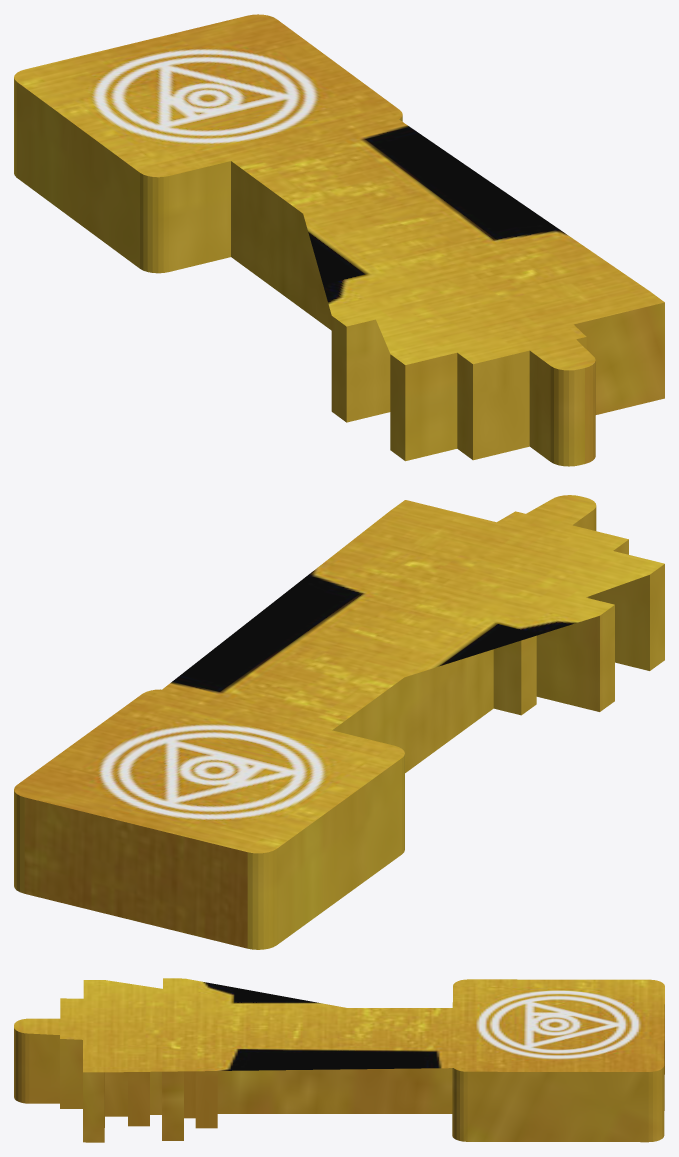
The model's file is Key4.fbx.
3 renders of one model, top to bottom at view 1: azimuth 30°, elevation 25°; view 2: azimuth 150°, elevation 25°; view 3: azimuth 270°, elevation 25°, orthographic. The views are drawn at different scales.
Parts seen in each view (by area): view 1: Key4; view 2: Key4; view 3: Key4.
Boxes of the visible parts, x1,y1,x2,y2 form: Key4: [14, 14, 664, 466]; Key4: [14, 495, 664, 949]; Key4: [14, 978, 664, 1142].
Size of the model in its own units: 2.87 by 1 by 8.41.
Materials: 1 (1 with a texture image).
